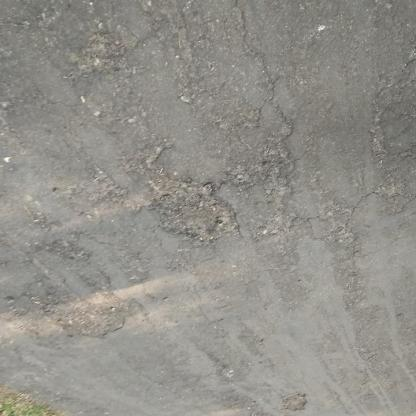pothole: (144, 177, 233, 246), (56, 308, 127, 342), (279, 392, 310, 414)
